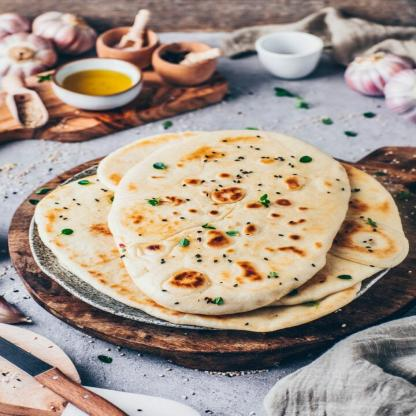naan: (99, 134, 410, 310), (36, 174, 360, 330), (108, 129, 351, 312)
